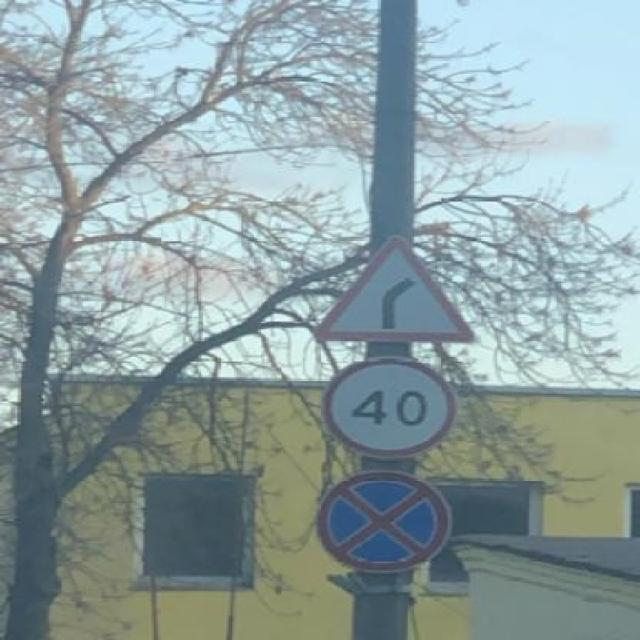forb_speed_over_40: (322, 358, 458, 456)
